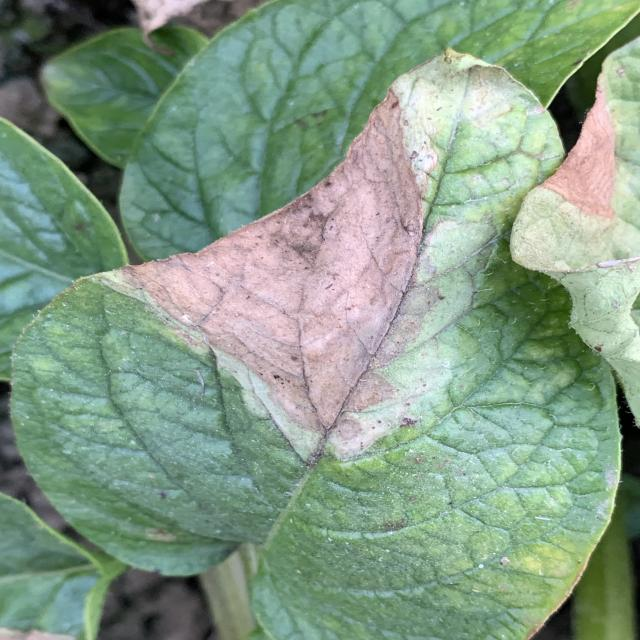lateblight: (118, 91, 423, 460), (542, 86, 615, 219)
